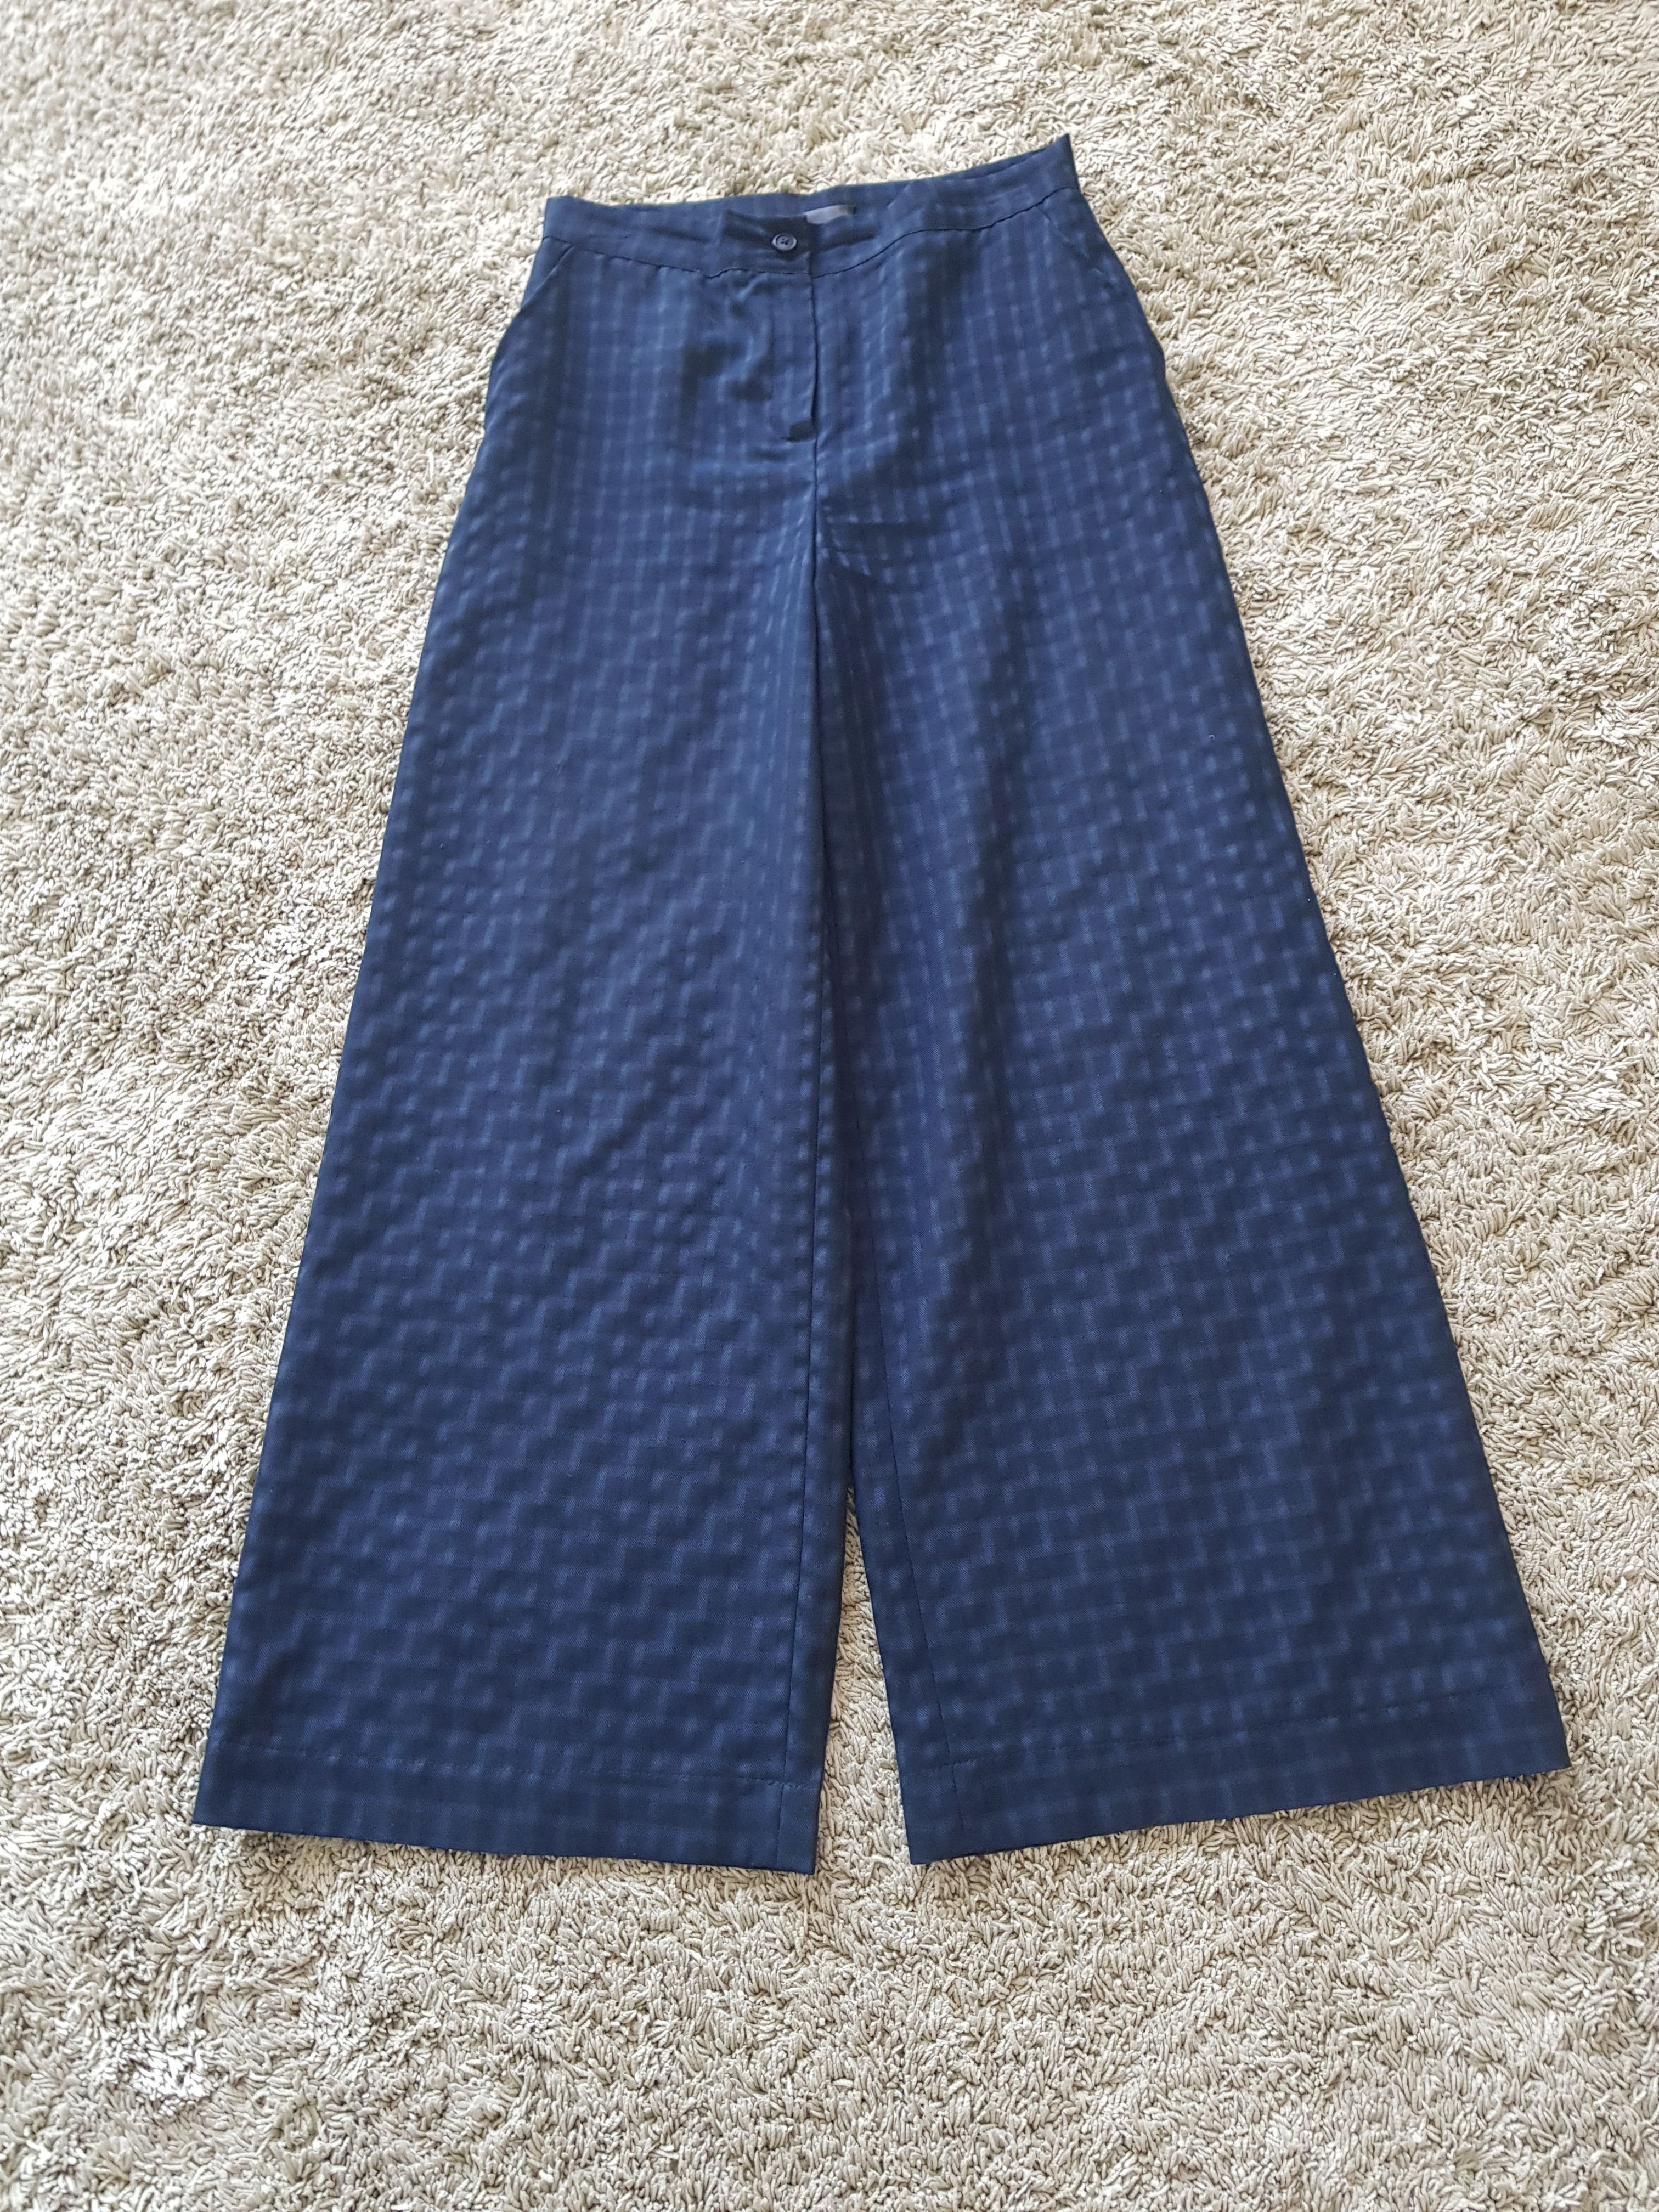clothes: (199, 150, 1582, 1857)
